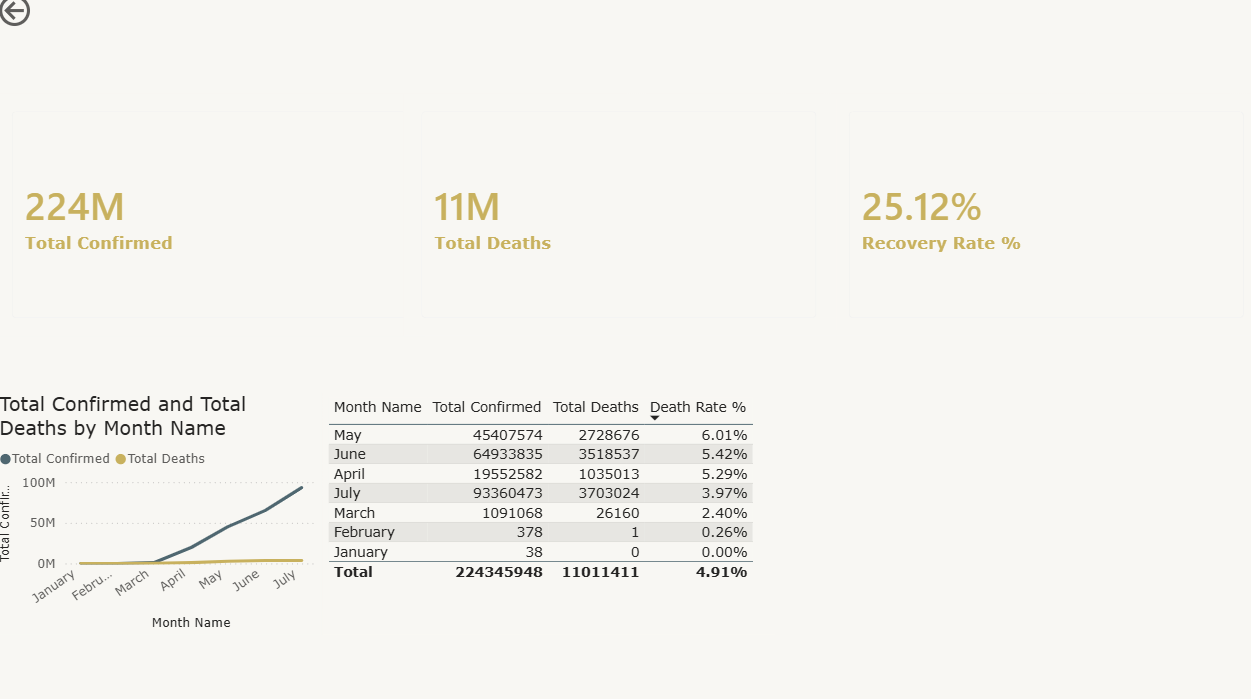

This screenshot's page, from the dashboard's own definition file:
{"tool":"powerbi","page":{"name":"Country Detail","canvas":[1280,720],"ordinal":2},"visuals":[{"type":"actionButton","box":[0,0,100,40],"z":0},{"type":"cardVisual","fields":{"Data":["_Measures.Total Confirmed"]},"box":[0,100,418.6,235.7],"z":1000},{"type":"cardVisual","fields":{"Data":["_Measures.Total Deaths"]},"box":[398.6,100,418,235],"z":2000},{"type":"cardVisual","fields":{"Data":["_Measures.Recovery Rate %"]},"box":[812.9,100,418,235],"z":3000},{"type":"lineChart","fields":{"Category":["Date.Month Name"],"Y":["_Measures.Total Confirmed","_Measures.Total Deaths"]},"box":[0,391,318,236],"z":4000},{"type":"tableEx","fields":{"Values":["Date.Month Name","_Measures.Total Confirmed","_Measures.Total Deaths","_Measures.Death Rate %"]},"box":[318.6,391.4,440,235.7],"z":5000}]}

Visuals, with their boxes in screenshot pixels (x1, y1, x2, y2), scaled from the page's 1280x720 canvas onto the 1251x699 screenshot:
actionButton: x1=0 y1=0 x2=98 y2=39
cardVisual - _Measures.Total Confirmed: x1=0 y1=97 x2=409 y2=326
cardVisual - _Measures.Total Deaths: x1=390 y1=97 x2=798 y2=325
cardVisual - _Measures.Recovery Rate %: x1=794 y1=97 x2=1203 y2=325
lineChart - Date.Month Name x _Measures.Total Confirmed: x1=0 y1=380 x2=311 y2=609
tableEx - Date.Month Name x _Measures.Total Confirmed: x1=311 y1=380 x2=741 y2=609
